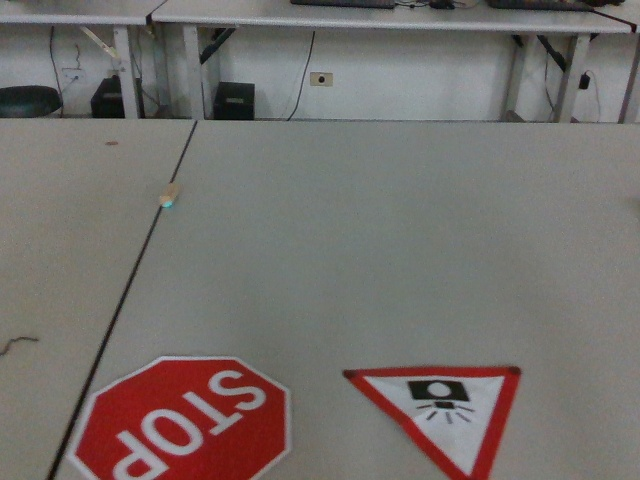camera: (340, 362, 527, 480)
stop: (68, 354, 293, 480)
